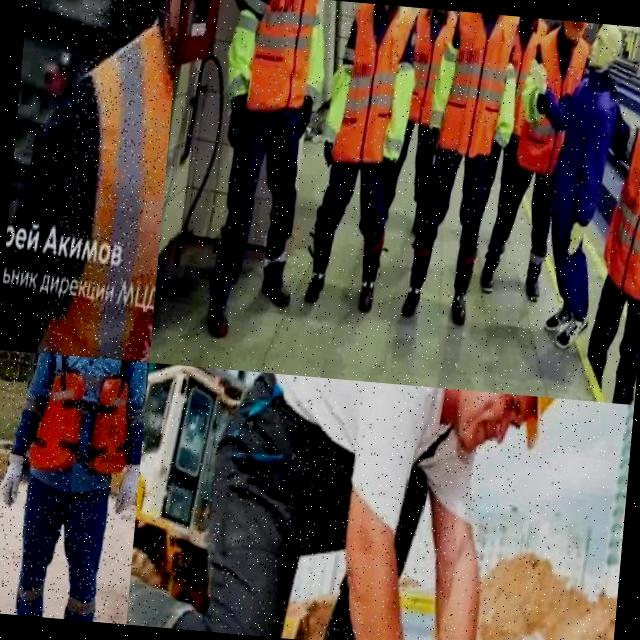boots: (242, 240, 307, 317), (191, 280, 247, 350), (552, 302, 592, 358), (511, 258, 552, 310), (298, 259, 336, 313), (534, 288, 578, 332)
helmet: (464, 391, 590, 468), (556, 20, 589, 46)
vest: (34, 0, 180, 362), (20, 352, 149, 488), (328, 1, 417, 172), (433, 10, 519, 160), (514, 21, 592, 180), (233, 0, 325, 116), (595, 122, 640, 303), (398, 6, 459, 124), (496, 15, 547, 136)
